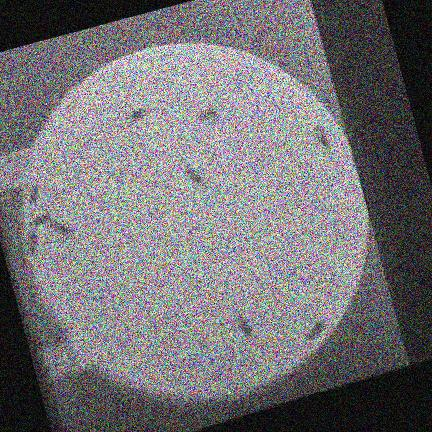fly: (49, 219, 73, 237), (236, 314, 254, 337), (307, 319, 325, 341), (184, 166, 204, 185), (197, 106, 220, 122), (315, 125, 329, 149), (31, 213, 53, 228), (25, 184, 40, 205), (128, 106, 149, 121), (28, 231, 39, 253)
